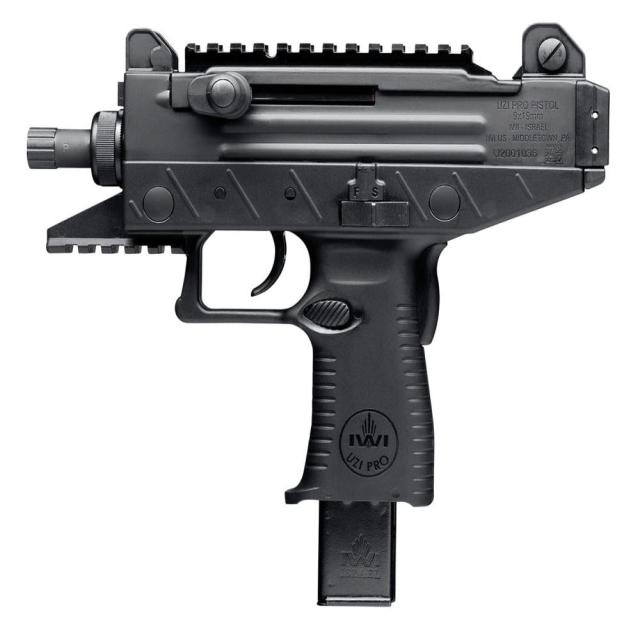SMG: (27, 23, 612, 610)
